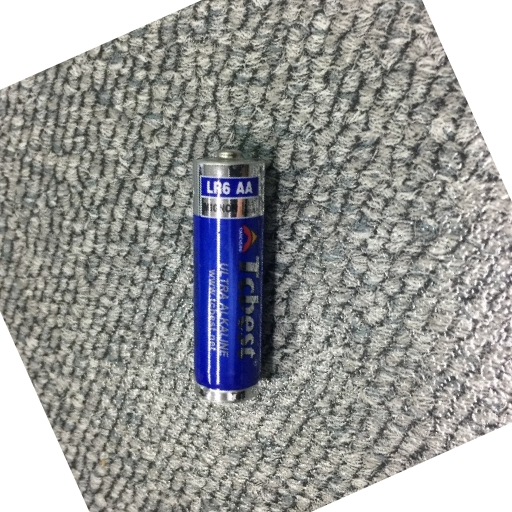Battery_0: (187, 141, 280, 415)
